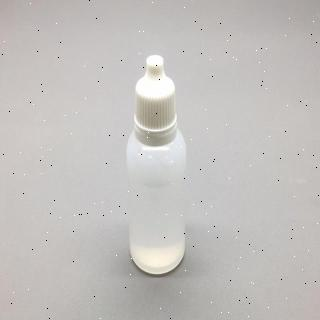Plastic-bottle: (123, 54, 191, 279)
